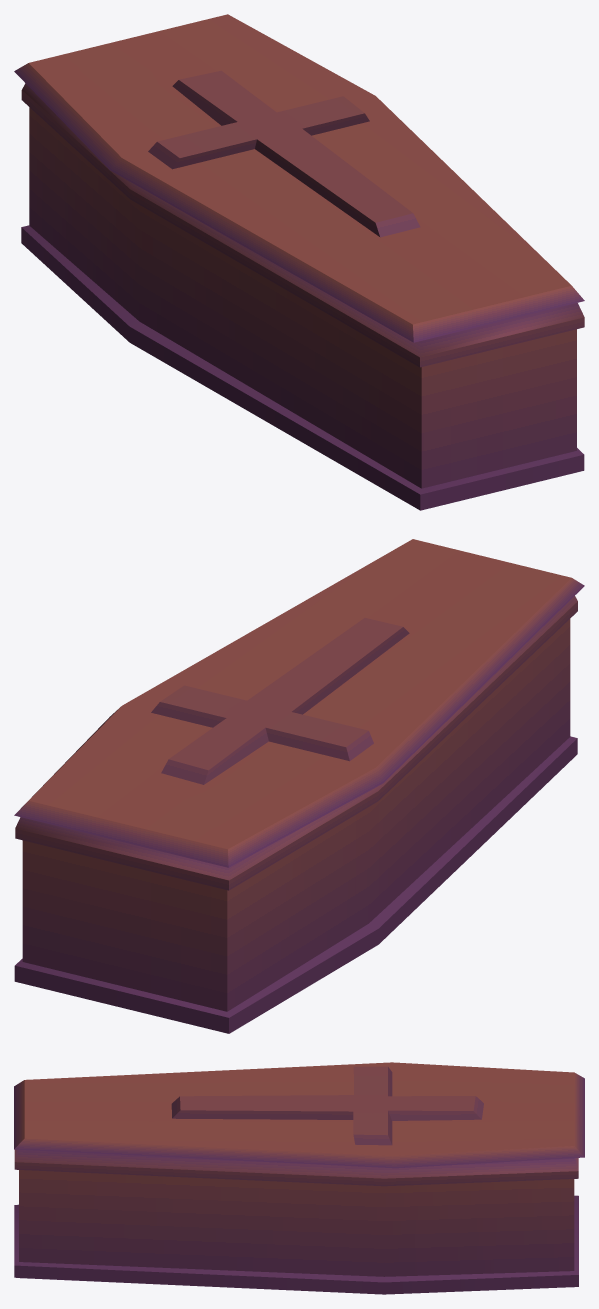
Rendered from Coffin_Basic.fbx.
The picture shows the model from 3 angles, top to bottom: view 1: azimuth 30°, elevation 25°; view 2: azimuth 150°, elevation 25°; view 3: azimuth 270°, elevation 25°; orthographic projection. The views are drawn at different scales.
Parts seen in each view (by area): view 1: Coffin_Base_Lid, Coffin_Basic_Case; view 2: Coffin_Base_Lid, Coffin_Basic_Case; view 3: Coffin_Base_Lid, Coffin_Basic_Case.
Part boxes in pixels (x1=…): Coffin_Base_Lid: x1=21, y1=83, x2=584, y2=510; Coffin_Basic_Case: x1=14, y1=14, x2=584, y2=342; Coffin_Base_Lid: x1=14, y1=596, x2=577, y2=1033; Coffin_Basic_Case: x1=14, y1=539, x2=584, y2=867; Coffin_Base_Lid: x1=14, y1=1149, x2=578, y2=1294; Coffin_Basic_Case: x1=14, y1=1062, x2=584, y2=1168.
Bounding box in the file's own units: 2.98 × 2.03 × 7.14.
